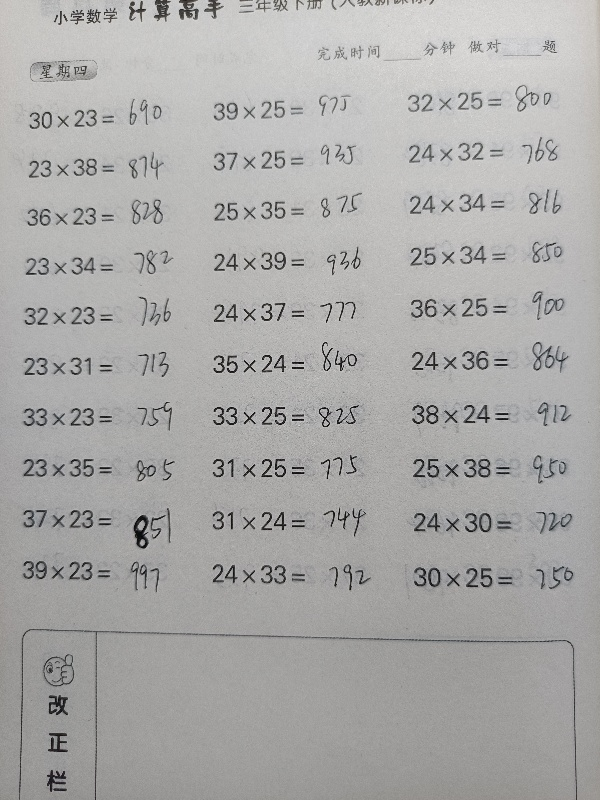equation: (405, 559, 585, 595), (203, 556, 383, 591), (405, 505, 585, 540), (204, 503, 384, 538), (405, 451, 585, 486), (403, 397, 583, 432), (403, 343, 583, 378), (401, 290, 581, 325), (205, 193, 385, 228), (13, 553, 193, 587), (15, 502, 195, 536), (205, 451, 385, 485), (15, 451, 195, 485), (15, 400, 195, 434), (205, 399, 385, 433), (16, 299, 196, 333), (205, 295, 385, 329), (205, 244, 385, 278), (401, 238, 581, 272), (400, 187, 580, 221), (205, 143, 385, 177), (400, 135, 580, 169), (205, 93, 385, 127), (399, 84, 579, 118), (16, 350, 196, 383), (204, 347, 384, 380), (18, 250, 198, 283), (18, 200, 198, 233), (19, 151, 199, 184), (20, 102, 200, 135)
